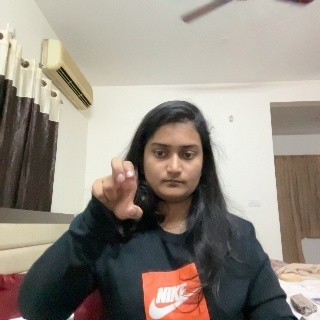Face: (143, 112, 204, 199)
No: (92, 155, 145, 238)
